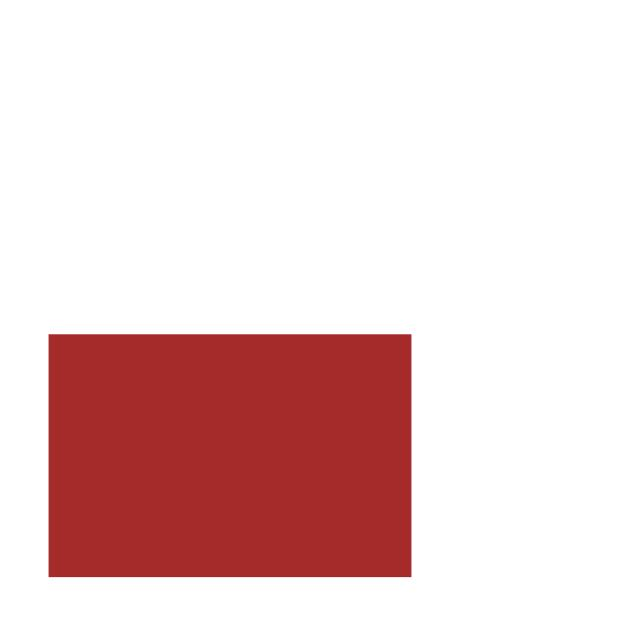Rectangle: (20, 293, 470, 610)
